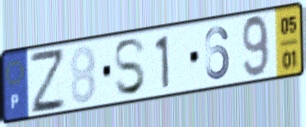1: (153, 32, 172, 91)
6: (204, 24, 232, 82)
8: (69, 43, 99, 107)
9: (241, 13, 272, 81)
S: (112, 35, 148, 98)
Z: (27, 47, 68, 117)
